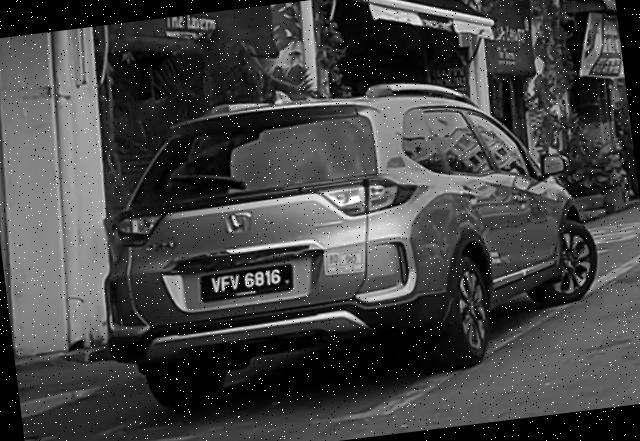License_Plate: (197, 262, 297, 304)
car: (80, 56, 611, 416)
